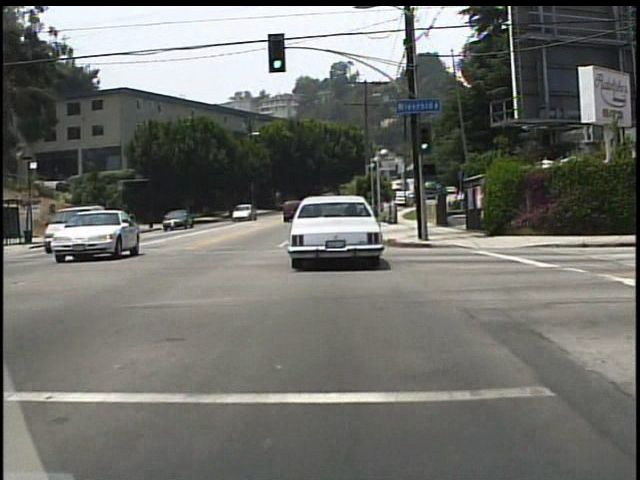person: (128, 209, 139, 233)
